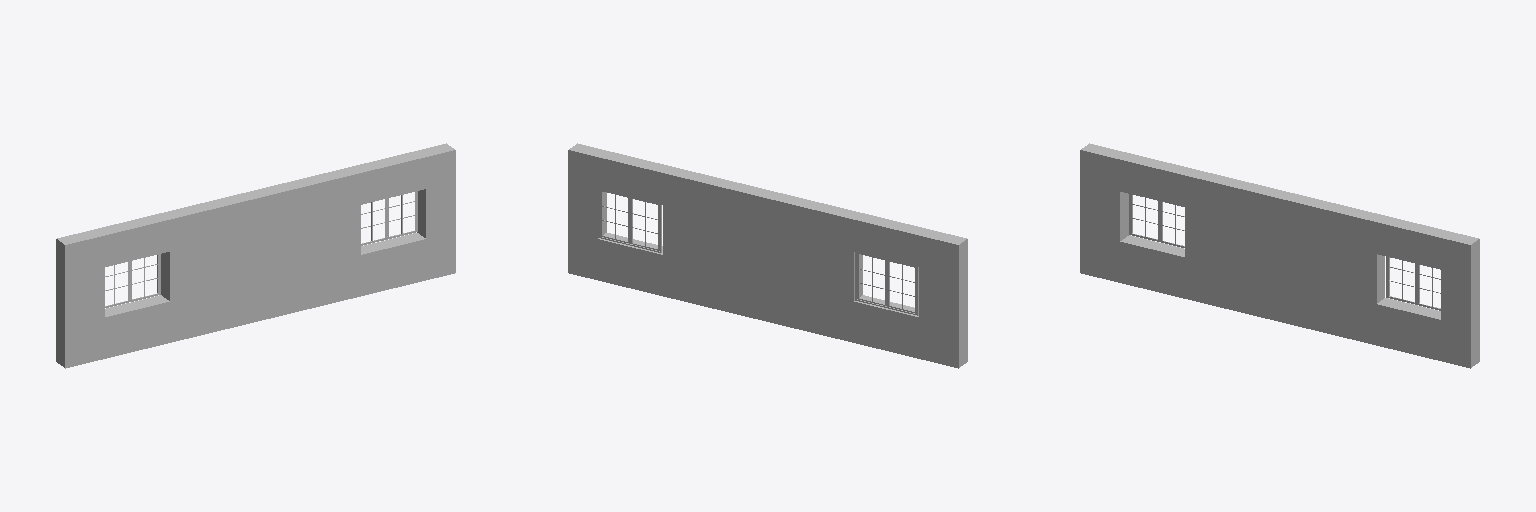
Rendered from Pared3Arriba.obj.
The picture shows the model from 3 angles: view 1: azimuth 30°, elevation 25°; view 2: azimuth 150°, elevation 25°; view 3: azimuth 330°, elevation 25°; orthographic projection.
Visible parts, largest first — view 1: refri_edit29:Box007 pasted__pasted__pasted__group62 pasted__past; view 2: refri_edit29:Box007 pasted__pasted__pasted__group62 pasted__past; view 3: refri_edit29:Box007 pasted__pasted__pasted__group62 pasted__past.
Boxes of the visible parts, x1=… form: refri_edit29:Box007 pasted__pasted__pasted__group62 pasted__past: x1=56, y1=143, x2=455, y2=368; refri_edit29:Box007 pasted__pasted__pasted__group62 pasted__past: x1=568, y1=143, x2=967, y2=368; refri_edit29:Box007 pasted__pasted__pasted__group62 pasted__past: x1=1080, y1=143, x2=1479, y2=368.
Bounding box in the file's own units: 22.34 × 6.75 × 0.8837.